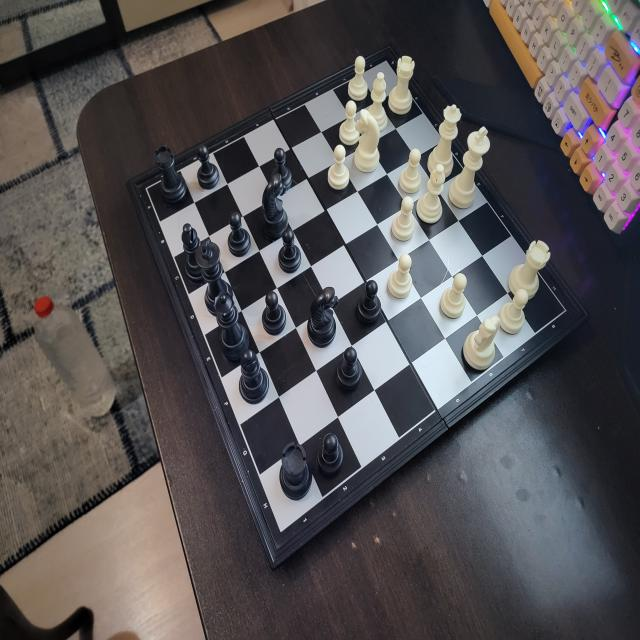black-bishop: (238, 349, 270, 404), (181, 222, 202, 280)
black-king: (196, 238, 230, 303)
black-knight: (307, 287, 340, 348)
black-pawn: (335, 346, 365, 392), (226, 210, 253, 258), (316, 432, 345, 476), (261, 290, 287, 336), (356, 279, 382, 324), (277, 229, 302, 274), (196, 144, 220, 189), (271, 146, 292, 186)
black-queen: (213, 290, 251, 351)
black-rook: (278, 440, 314, 500), (154, 144, 188, 204)
chess-board: (138, 48, 575, 547)
white-bishop: (418, 164, 445, 224), (369, 72, 388, 130)
white-king: (449, 125, 491, 210)
white-knight: (463, 314, 501, 370), (388, 55, 417, 115), (356, 109, 380, 175)
white-pawn: (499, 288, 529, 334), (439, 272, 467, 319), (327, 144, 350, 192), (399, 147, 422, 194), (390, 196, 414, 241), (388, 253, 412, 298), (347, 55, 368, 102), (339, 100, 358, 146)
white-queen: (429, 105, 462, 172)
white-rook: (508, 239, 552, 299)
